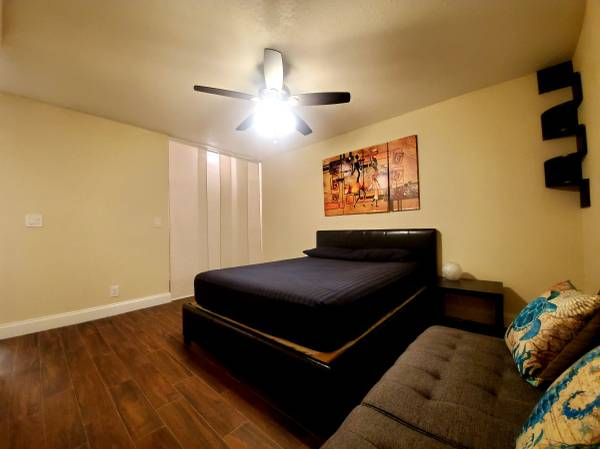bed: (184, 231, 438, 393)
frame: (322, 134, 421, 217)
